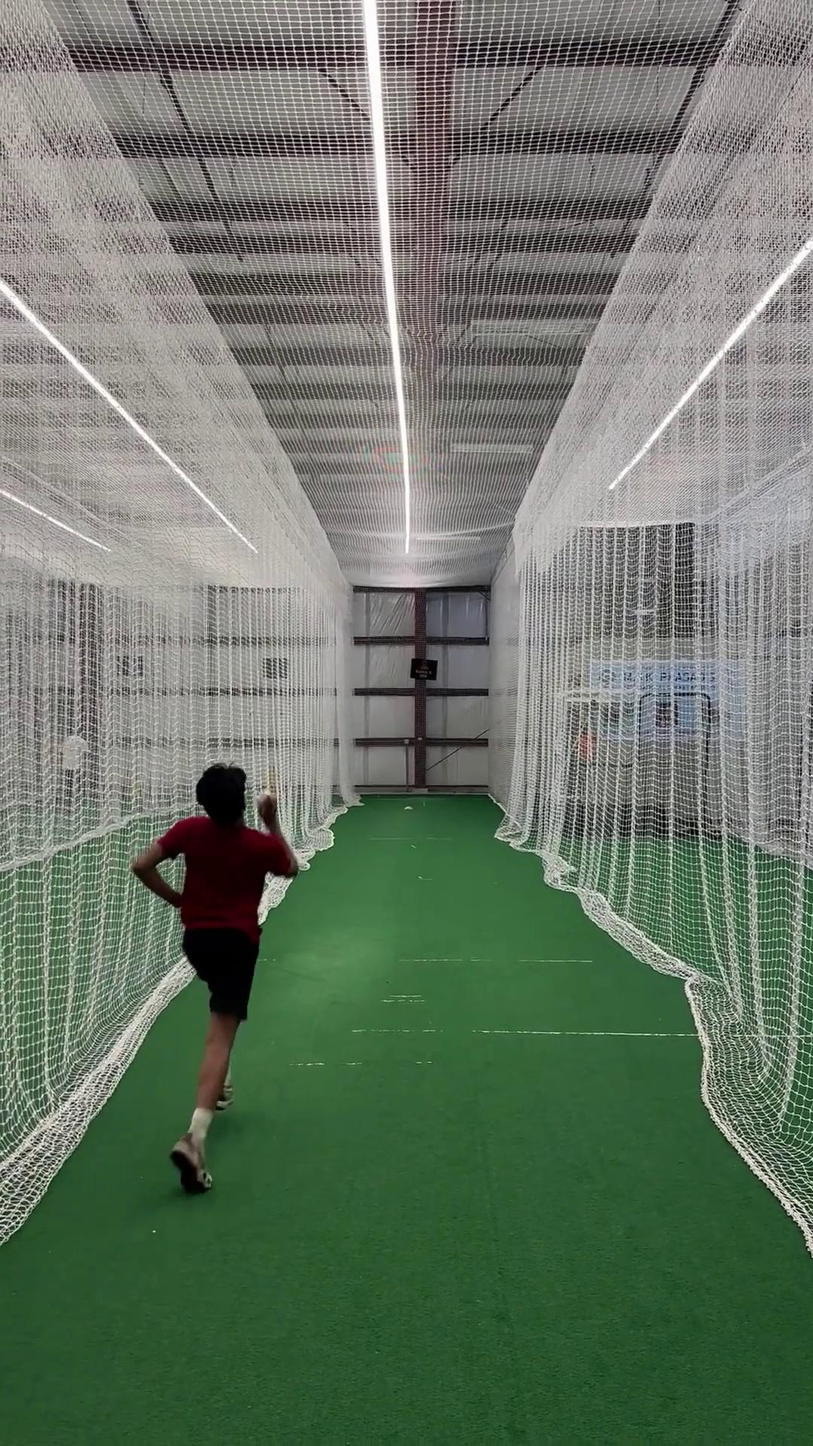ball: (248, 786, 273, 817)
